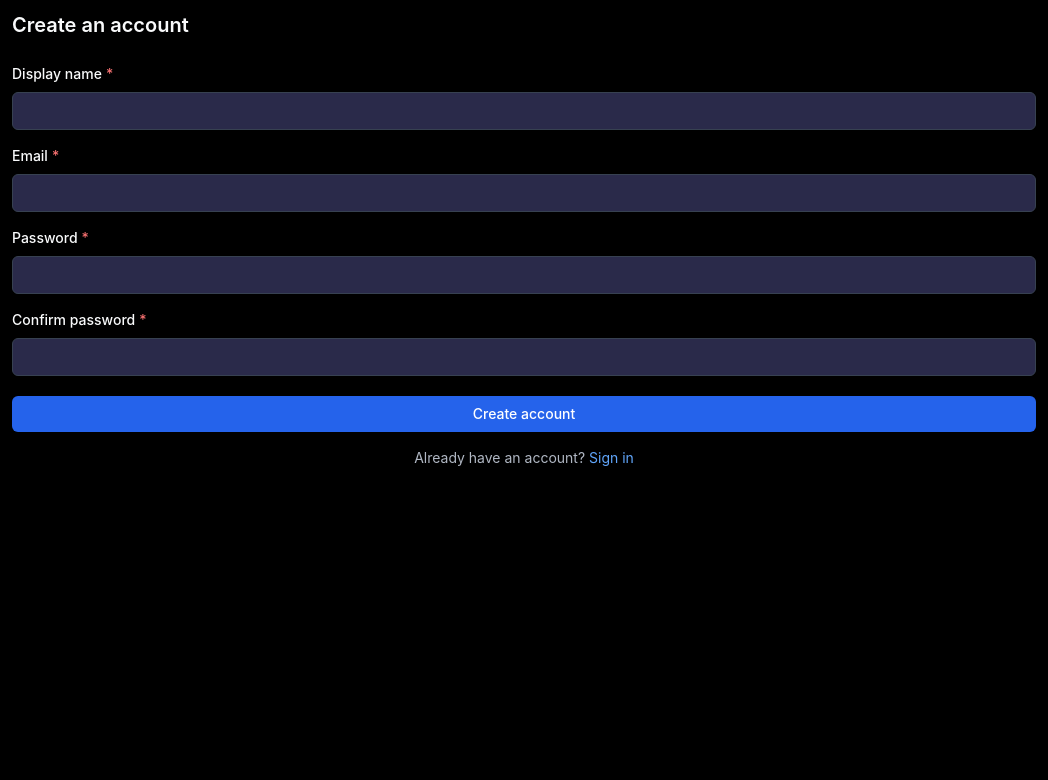
RegisterPage › shows validation error when display name is empty
The width and height of the screenshot is (1048, 780).
# Submit without filling display name
Click the button "Create account": (524, 414) [12, 396, 1036, 432]
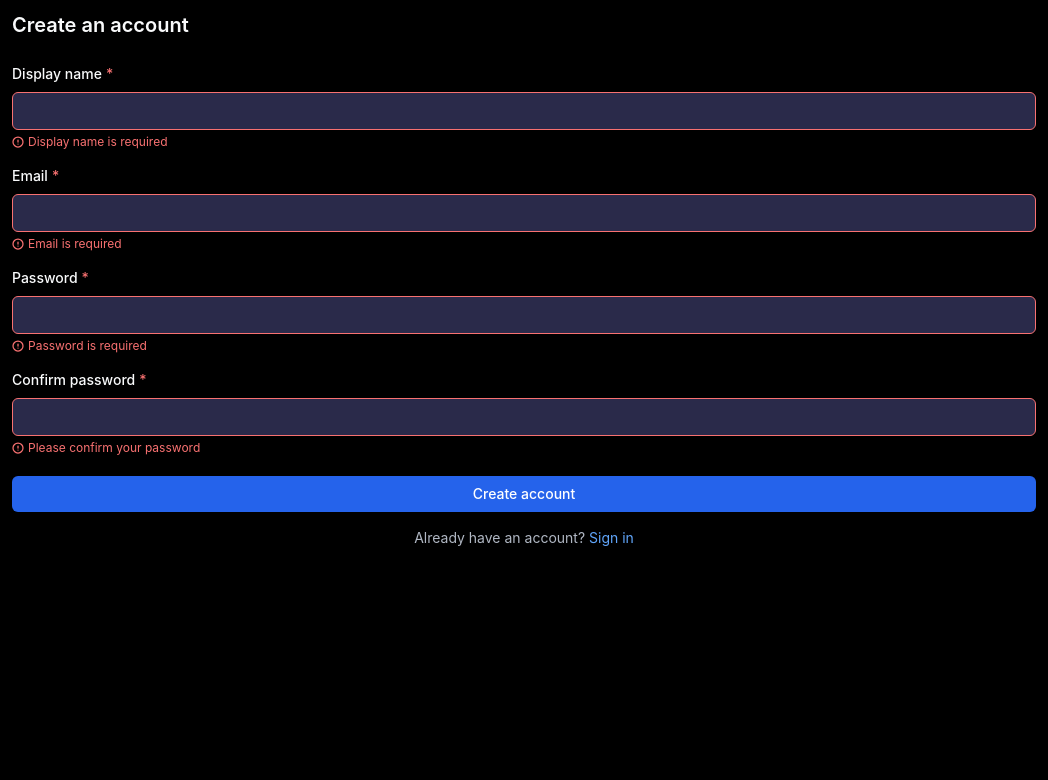
Now the text "Display name is required" is shown, box [12, 134, 168, 148]
